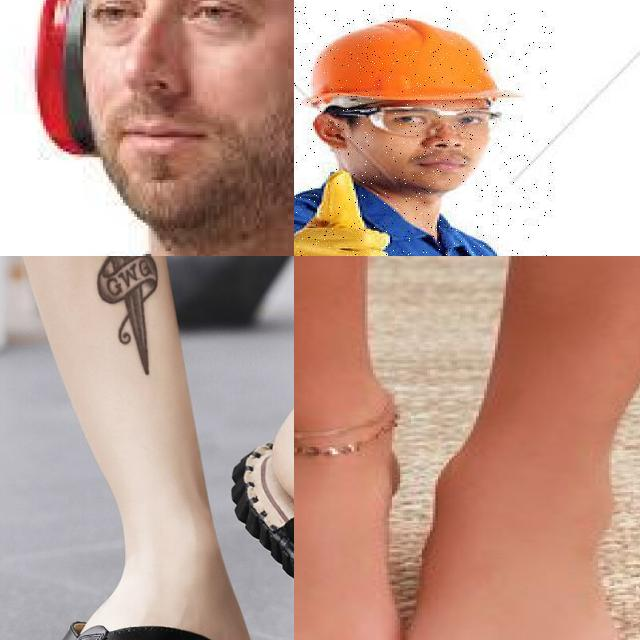Barefoots: (368, 461, 640, 640)
Ear-protection: (15, 0, 294, 170)
No_Ear-Protection: (308, 109, 350, 164)
face_nomask: (364, 120, 487, 196)
glasses: (327, 106, 501, 139)
hand_glove: (294, 170, 390, 256)
head_helmet: (307, 19, 510, 106)
